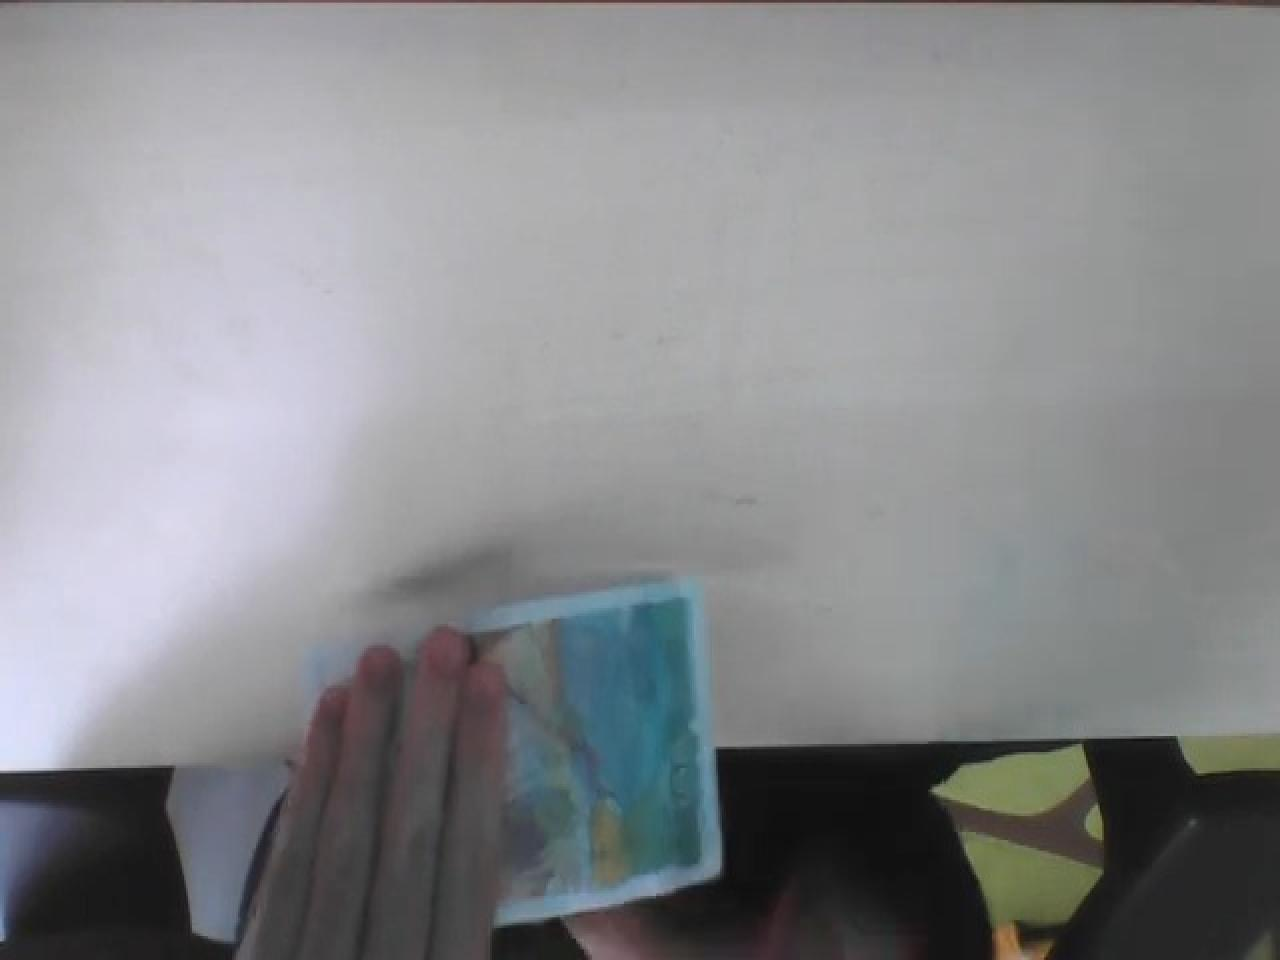100leva: (466, 579, 720, 929)
